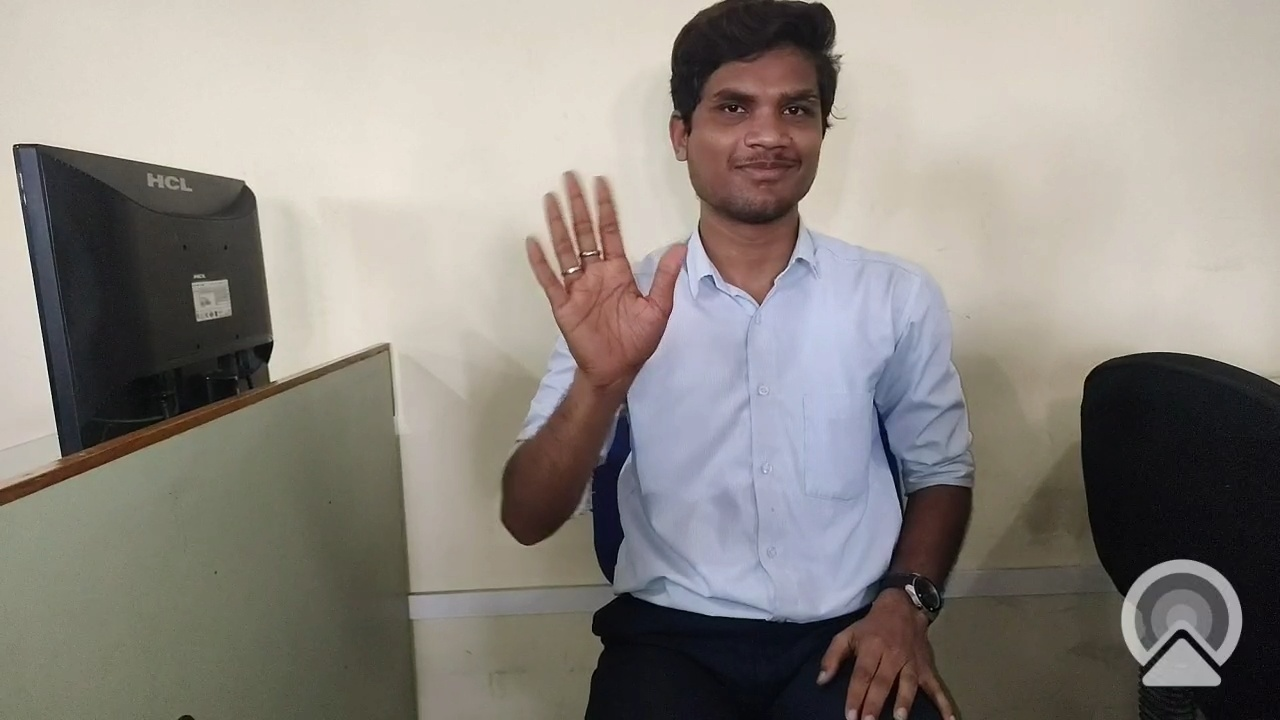Hello: (513, 157, 696, 401)
